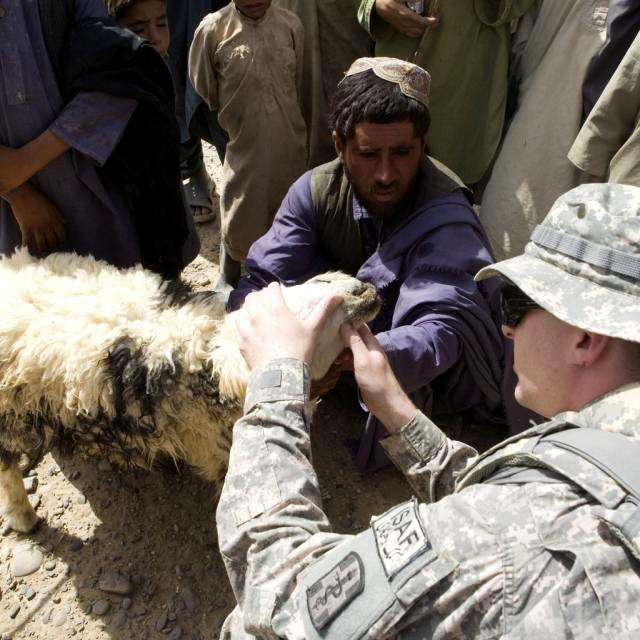sheep: (6, 246, 319, 527)
